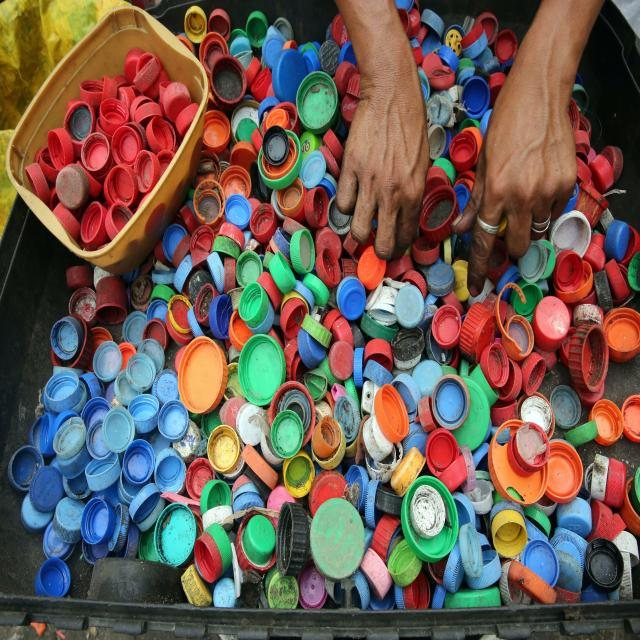plastic: (209, 314, 552, 543), (74, 96, 160, 181)
